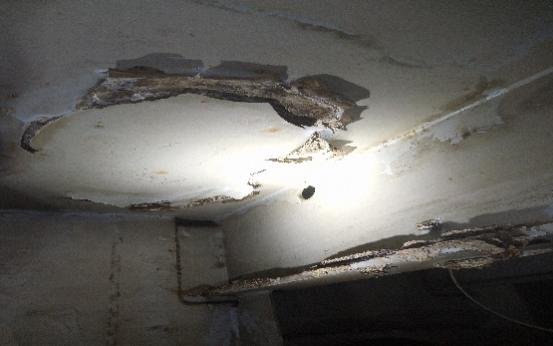corrosion: (303, 241, 506, 278), (65, 59, 186, 106), (249, 76, 353, 130), (185, 272, 329, 299), (188, 63, 272, 99), (280, 137, 338, 168), (162, 217, 234, 234)
